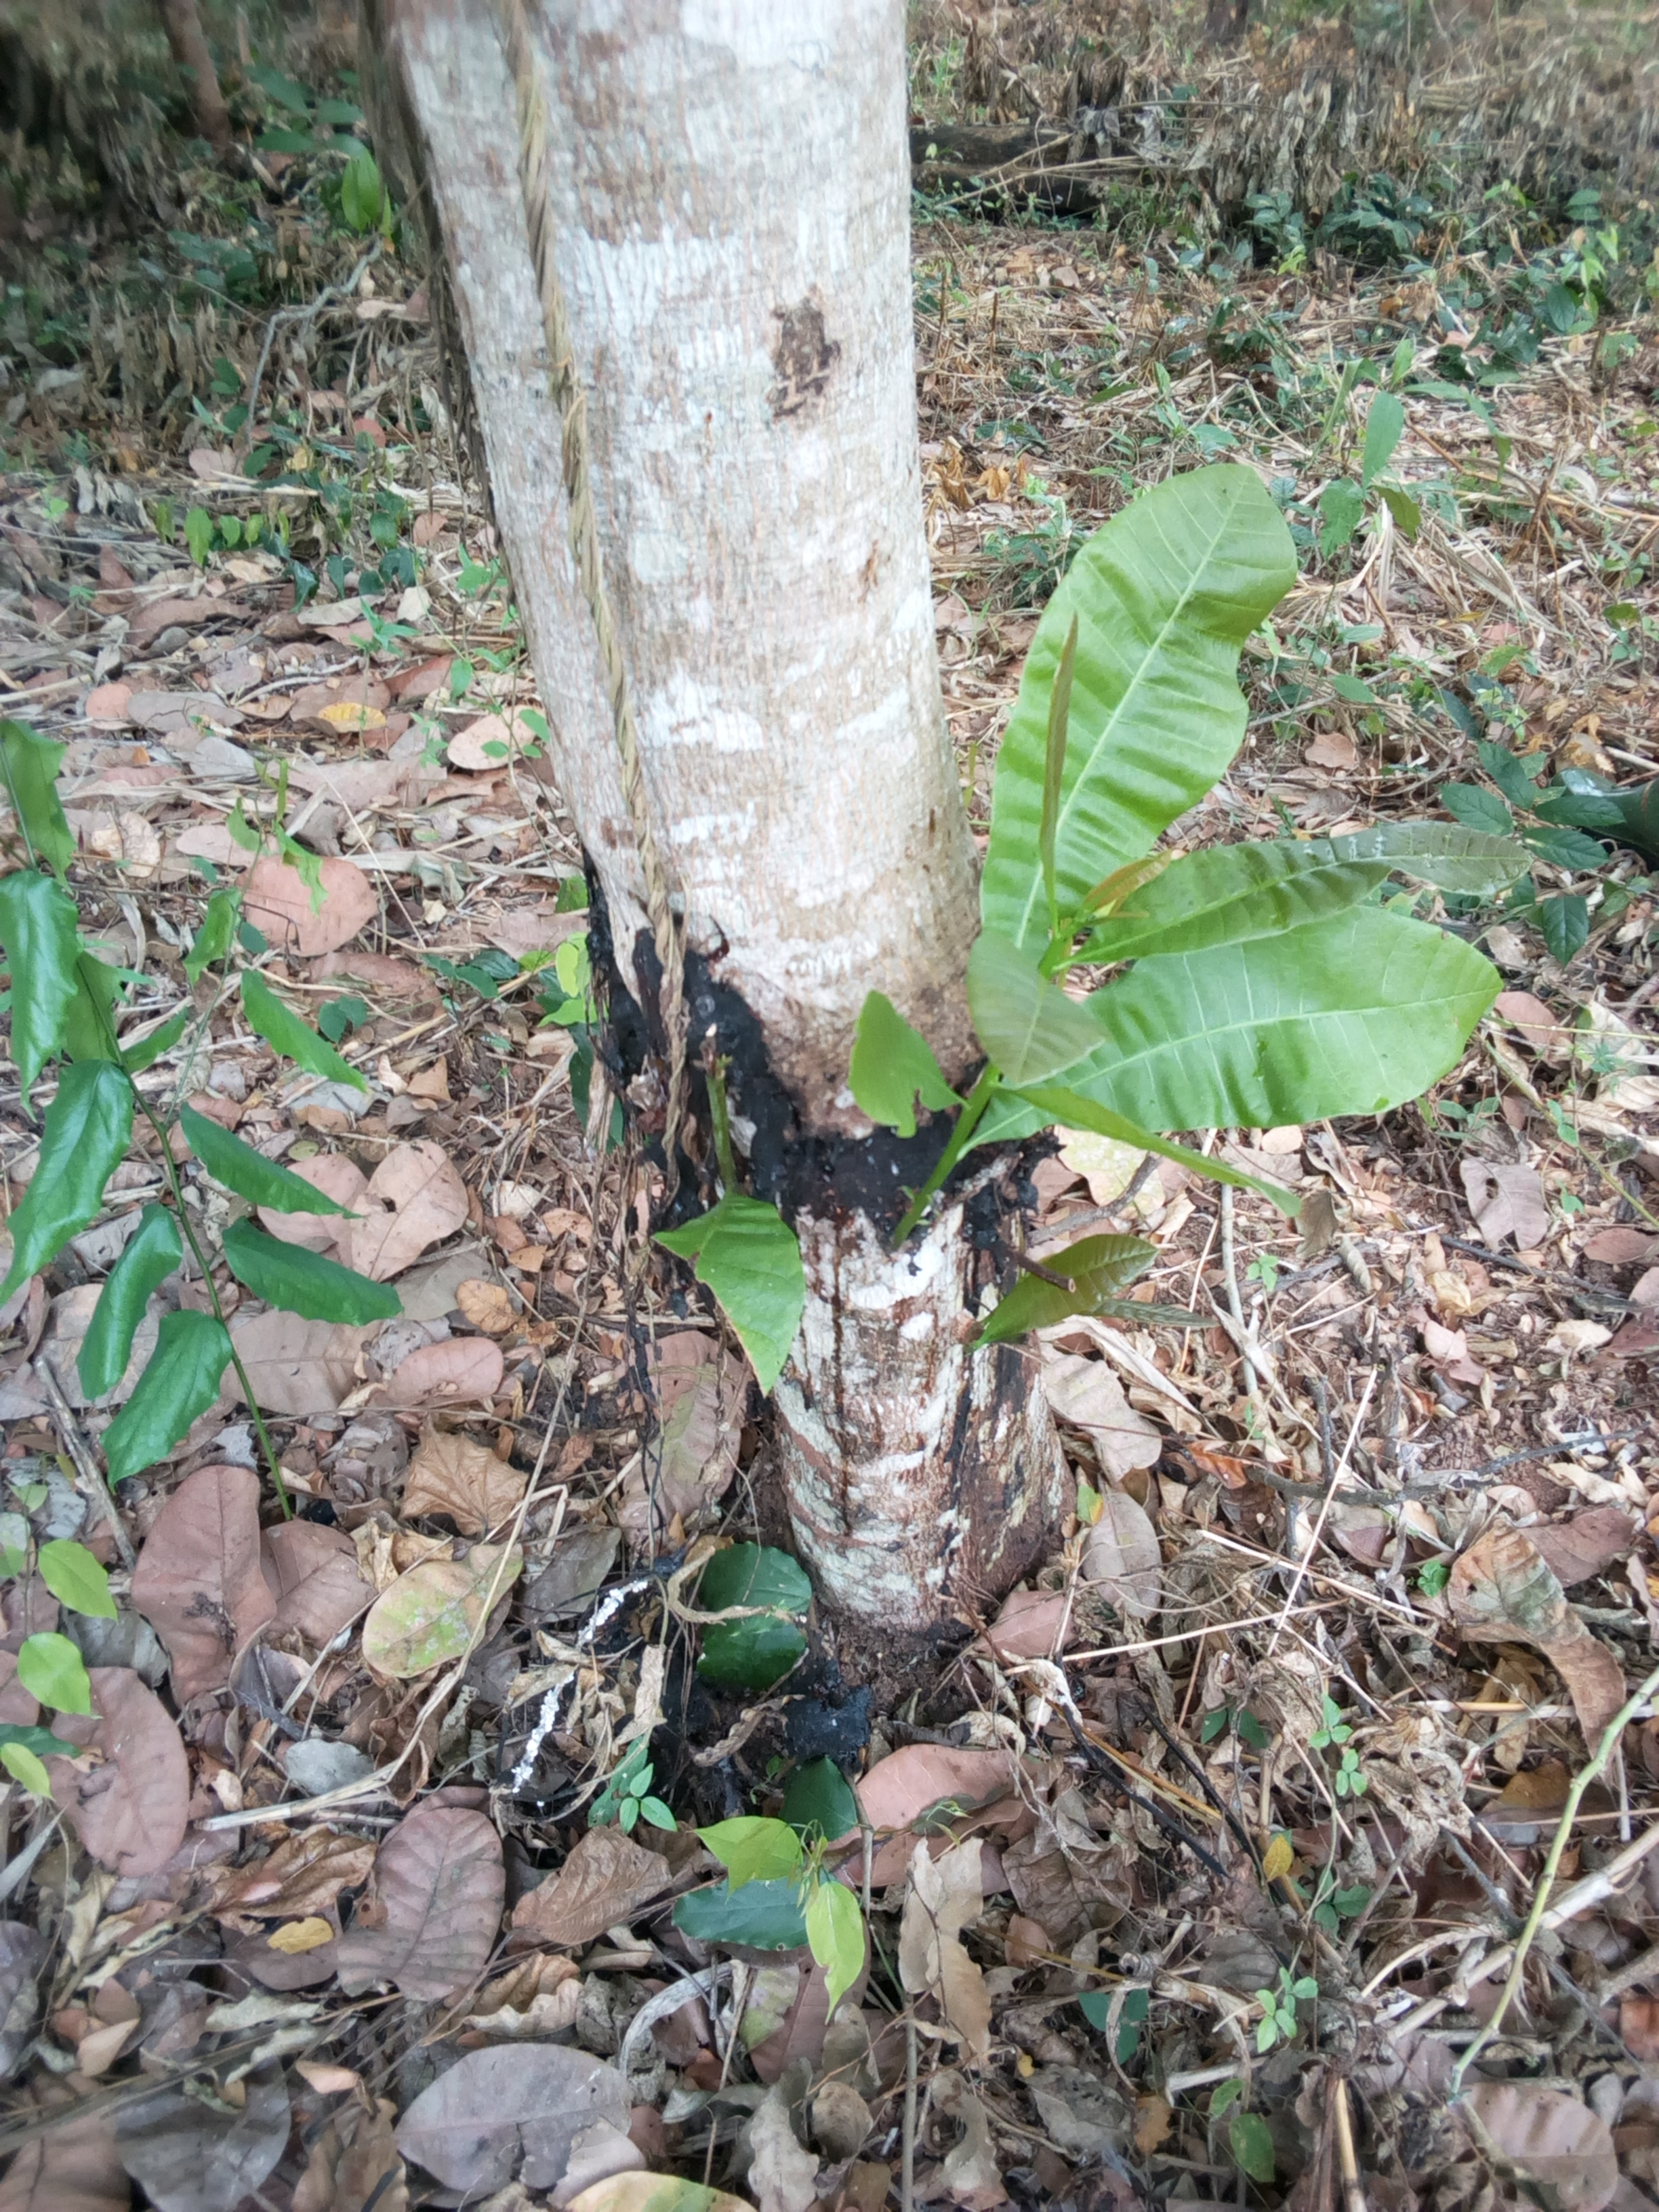Mecocorynus longiceps: (497, 888, 1033, 1320)
